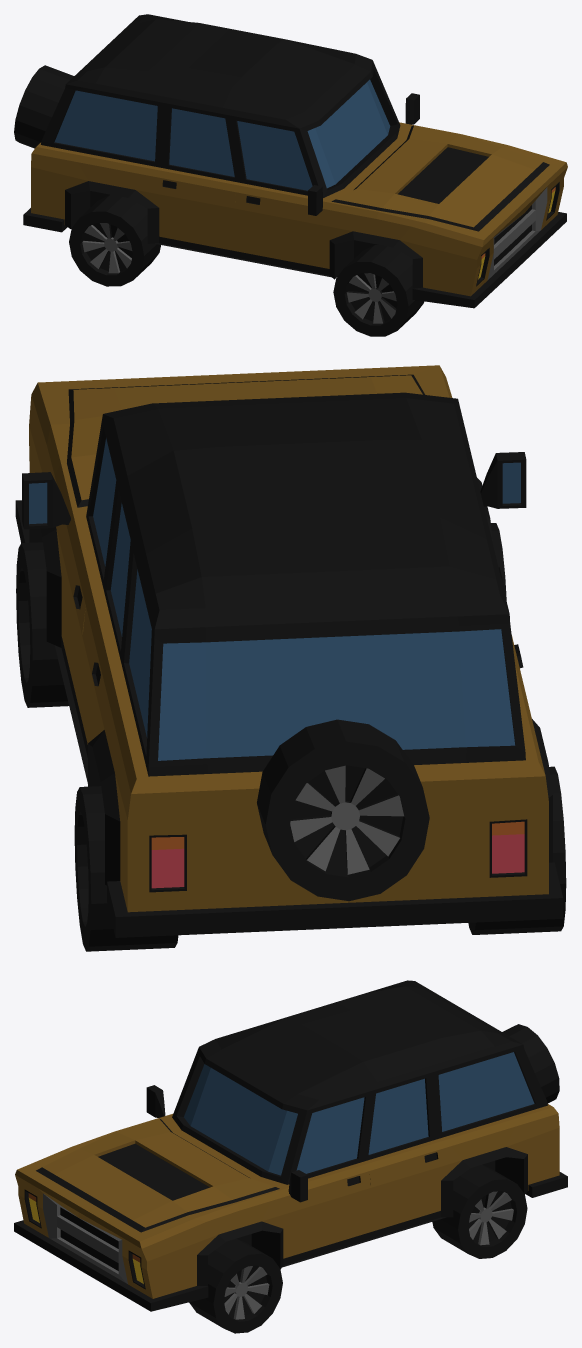
Rendered from suv.glb.
3 renders of one model, top to bottom at view 1: azimuth 30°, elevation 25°; view 2: azimuth 150°, elevation 25°; view 3: azimuth 270°, elevation 25°, orthographic. The views are drawn at different scales.
Visible parts, largest first — view 1: Body, Rear Wheels, Front R Wheels, Extra Wheel; view 2: Body, Extra Wheel, Rear Wheels, Front L Wheels; view 3: Body, Rear Wheels, Front L Wheels, Extra Wheel.
Boxes of the visible parts, x1,y1,x2,y2 form: Body: [23, 14, 567, 308]; Rear Wheels: [69, 194, 160, 286]; Front R Wheels: [333, 245, 424, 336]; Extra Wheel: [14, 65, 73, 148]; Body: [15, 365, 563, 937]; Extra Wheel: [257, 719, 429, 901]; Rear Wheels: [74, 766, 566, 951]; Front L Wheels: [16, 542, 68, 707]; Body: [14, 980, 567, 1311]; Rear Wheels: [432, 1164, 527, 1258]; Front L Wheels: [189, 1238, 282, 1333]; Extra Wheel: [502, 1024, 559, 1103].
Size of the model in its own units: 49.29 by 22.82 by 55.67.
